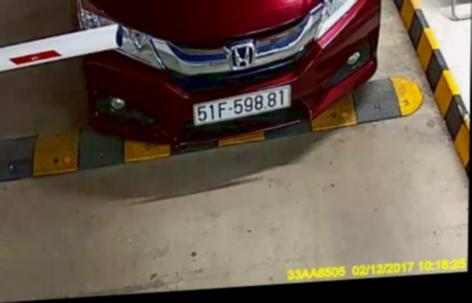License_Plate: (191, 84, 292, 125)
